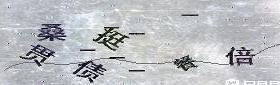chinese: (22, 40, 51, 70), (34, 20, 69, 44), (74, 57, 104, 85), (95, 26, 126, 52), (226, 46, 258, 69), (172, 53, 198, 75)
